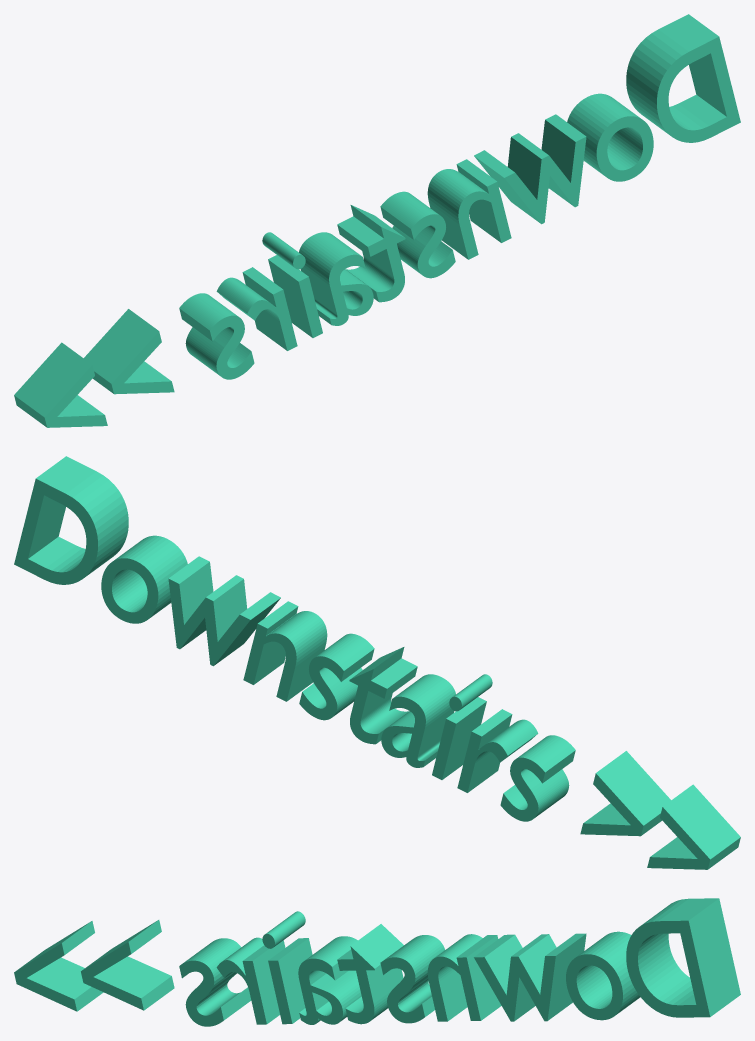
The model's file is dstairs.gltf.
3 views of the same model, one above another, from view 1: azimuth 30°, elevation 25°; view 2: azimuth 150°, elevation 25°; view 3: azimuth 330°, elevation 25° (orthographic).
Visible parts, largest first — view 1: chanrgrfr; view 2: chanrgrfr; view 3: chanrgrfr.
Boxes of the visible parts, x1=… form: chanrgrfr: x1=14, y1=14, x2=740, y2=427; chanrgrfr: x1=14, y1=456, x2=740, y2=869; chanrgrfr: x1=14, y1=898, x2=740, y2=1026.
Bounding box in the file's own units: 11.17 × 3.68 × 0.8519.
